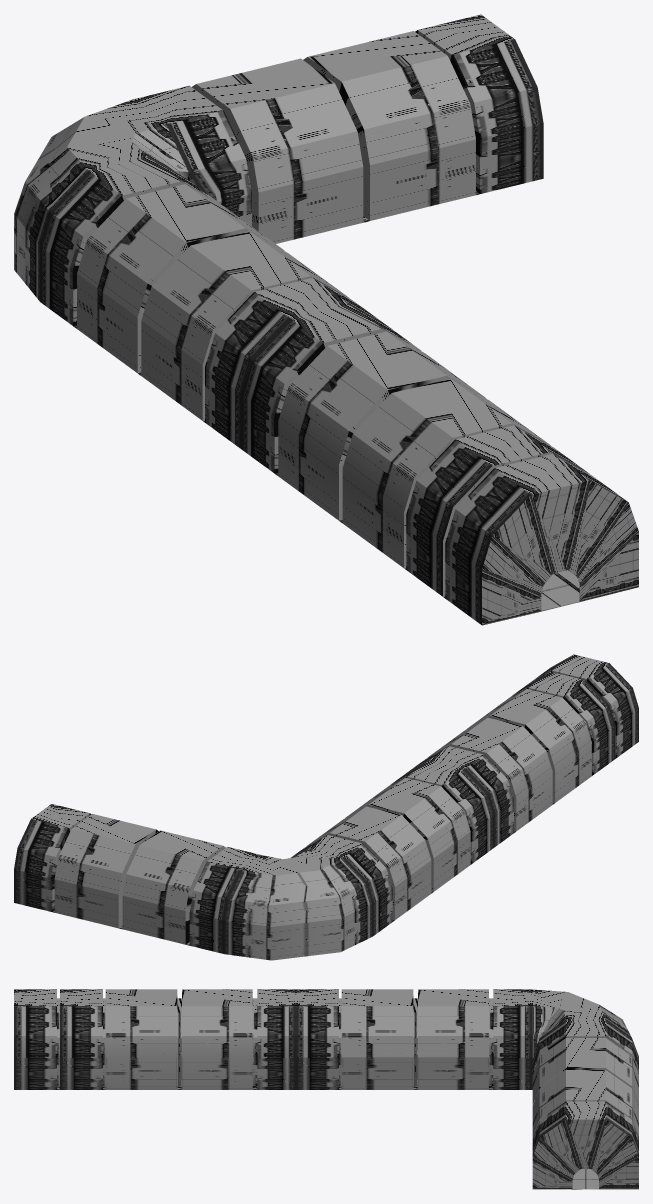
File: atoms_and_moliclus_room.fbx
The picture shows the model from 3 angles, top to bottom: view 1: azimuth 30°, elevation 25°; view 2: azimuth 150°, elevation 25°; view 3: azimuth 270°, elevation 25°; orthographic projection. The views are drawn at different scales.
Parts seen in each view (by area): view 1: room2, room3, room4; view 2: room2, room3, room4; view 3: room2, room3, room4.
Part boxes in pixels (x1,y1,x2,y2): room2: (14, 14, 543, 449); room3: (241, 304, 587, 596); room4: (443, 452, 638, 625); room2: (14, 760, 493, 960); room3: (407, 671, 615, 847); room4: (529, 654, 638, 758); room2: (296, 989, 638, 1189); room3: (60, 989, 295, 1089); room4: (14, 989, 59, 1089).
Size of the model in its own units: 7298 by 1648 by 13368.
1 material, 1 textured.
